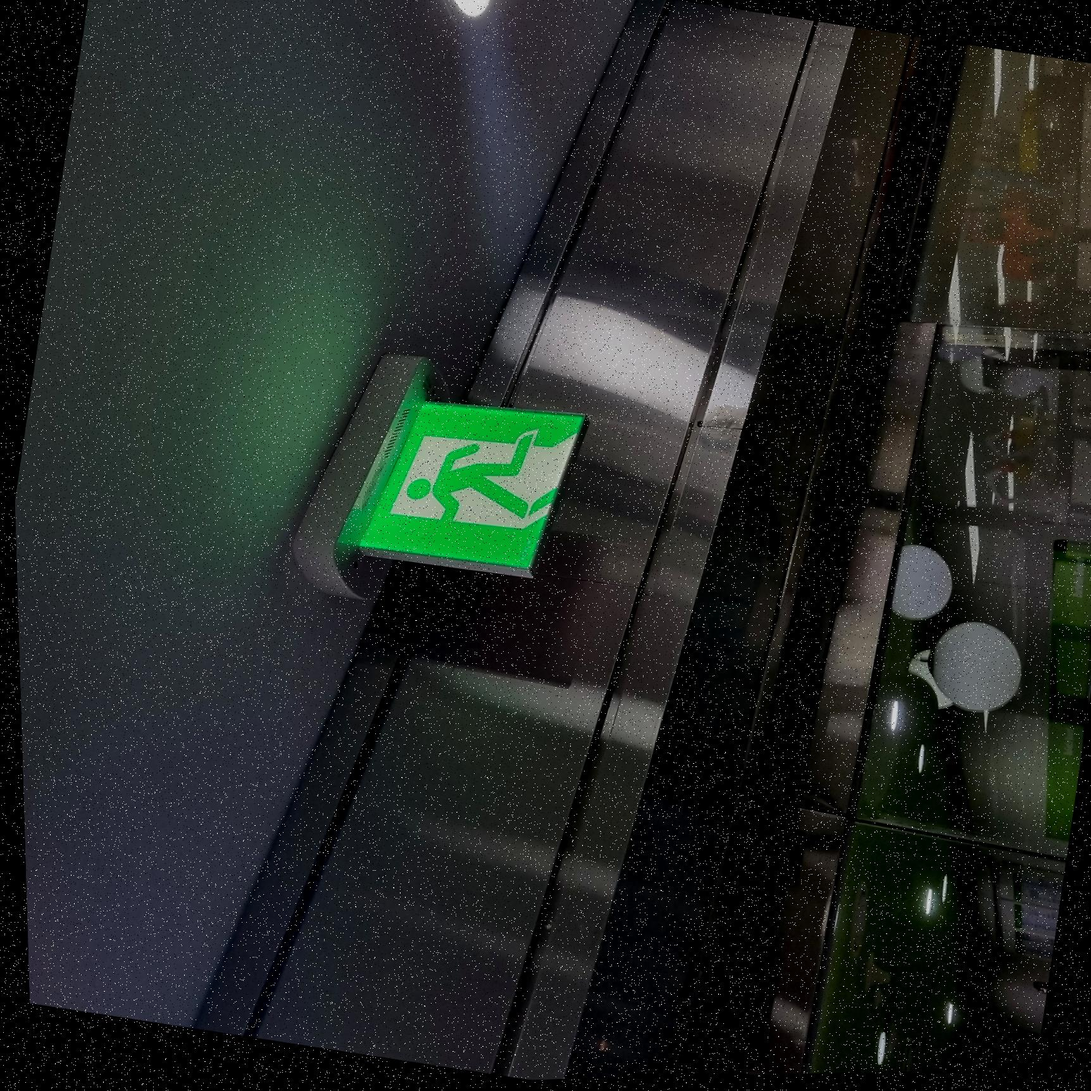emergency_exit: (335, 392, 588, 582)
